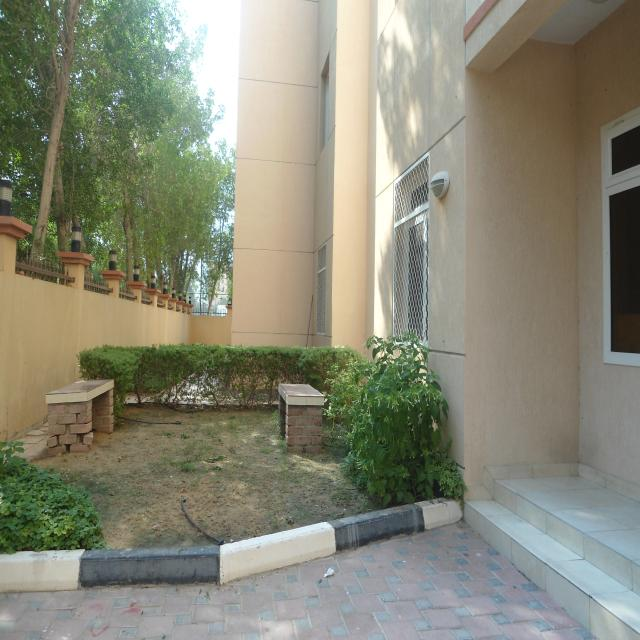bench: (49, 372, 114, 445), (273, 380, 325, 446)
bush: (71, 340, 354, 434), (333, 339, 455, 520), (0, 432, 105, 551)
stairs: (462, 461, 640, 640)
tree-chair-bench-table-wall: (0, 0, 233, 308)
window: (597, 106, 640, 371), (389, 157, 433, 344), (312, 245, 331, 332)
